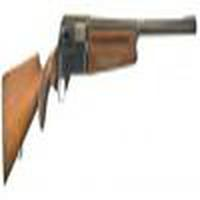gun: (2, 11, 189, 179)
